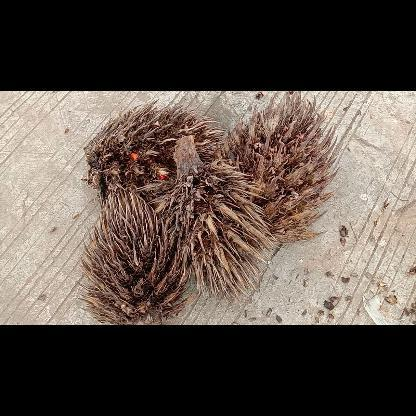Janjang kosong: (150, 136, 280, 308), (214, 91, 336, 243), (75, 190, 193, 324), (84, 98, 224, 202)
